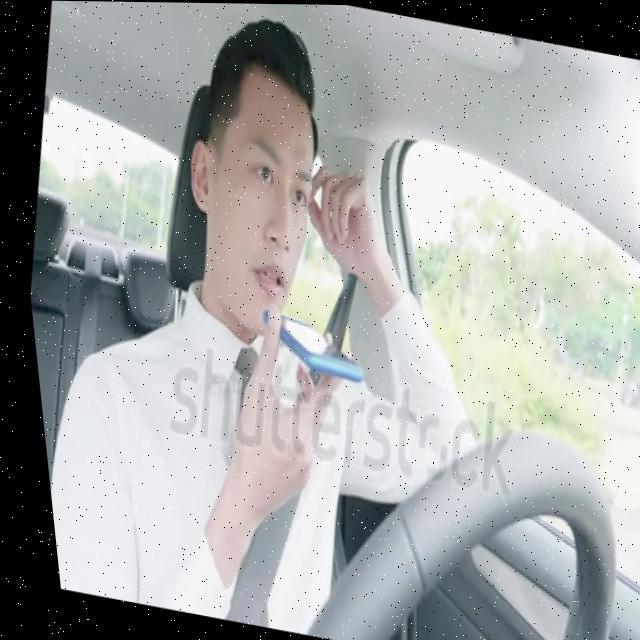PhoneCall: (240, 296, 374, 384)
